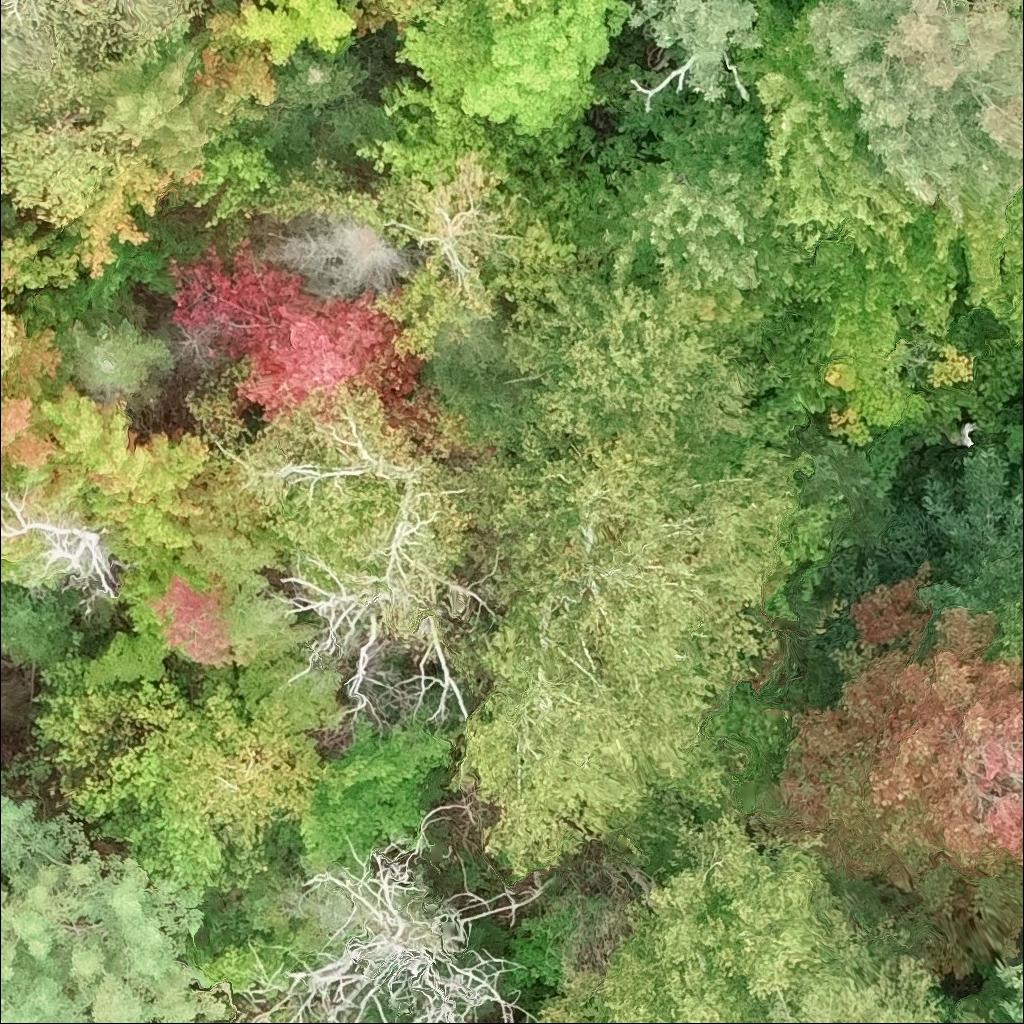crown: (454, 417, 813, 878), (776, 555, 1023, 884), (32, 648, 323, 892), (536, 816, 873, 1023), (263, 154, 583, 366), (245, 838, 552, 1023), (502, 256, 768, 460), (734, 0, 932, 272), (192, 382, 472, 569), (0, 799, 231, 1023), (800, 0, 1023, 224), (593, 85, 816, 305), (166, 238, 422, 421), (81, 509, 295, 690), (791, 243, 964, 444), (26, 384, 206, 573), (829, 437, 1023, 607), (0, 0, 203, 122), (459, 0, 633, 138), (192, 0, 358, 121), (104, 30, 235, 175), (913, 192, 1023, 343), (622, 0, 761, 105), (0, 105, 114, 227), (764, 951, 956, 1023), (394, 0, 495, 104), (0, 333, 57, 508), (68, 318, 174, 399), (197, 128, 283, 226), (0, 583, 72, 666), (274, 49, 365, 108), (994, 557, 1023, 647), (996, 931, 1023, 1023), (0, 536, 37, 590), (476, 0, 549, 27), (1004, 418, 1023, 492)
